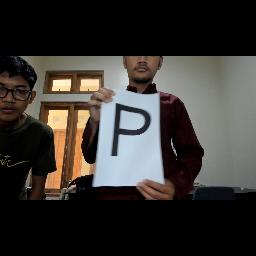p: (104, 98, 156, 166)
